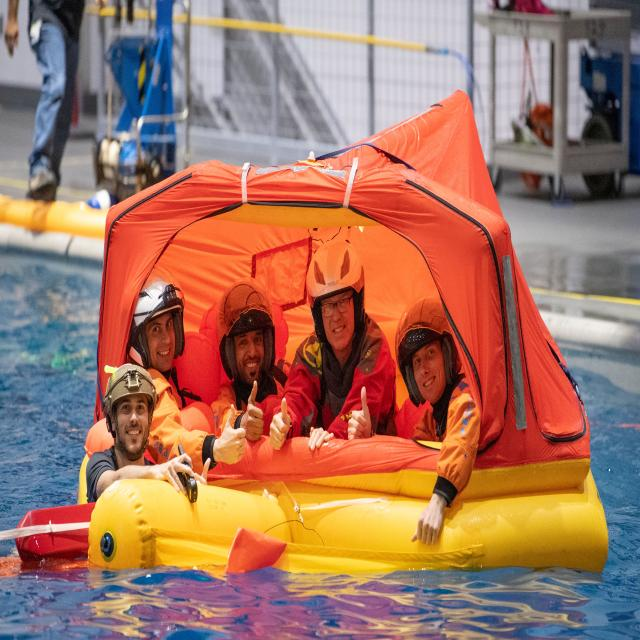Mannequin_wearing_orange-colored_life_preserver_unit_ LPU: (198, 280, 290, 384), (83, 401, 215, 462), (168, 331, 221, 403)
Multi-person_life_raft: (75, 84, 609, 578)
